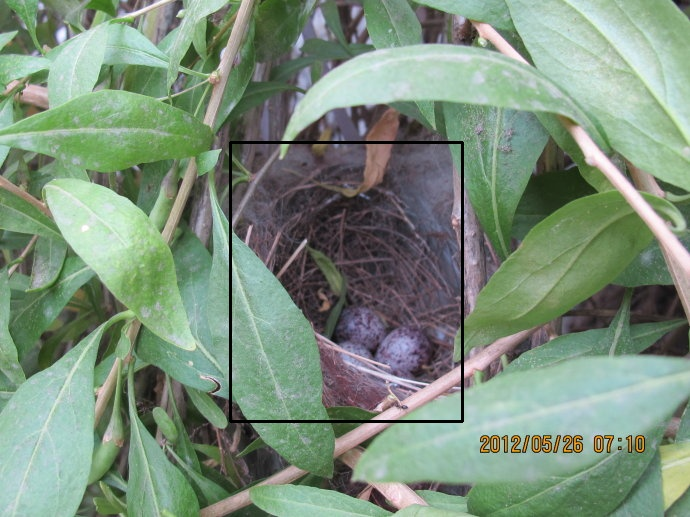bird-nest: (235, 179, 507, 413)
